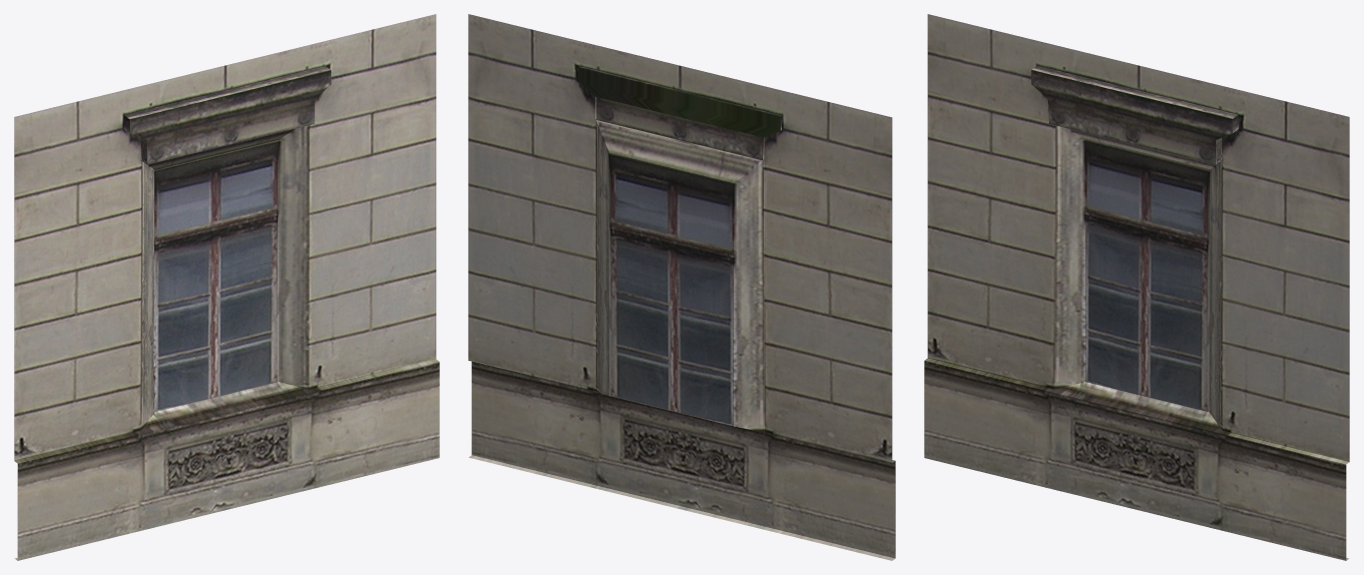
The model's file is fenster3.obj.
3 renders of one model, left to right at view 1: azimuth 30°, elevation 25°; view 2: azimuth 150°, elevation 25°; view 3: azimuth 330°, elevation 25°, orthographic.
Visible parts, largest first — view 1: polySurface8; view 2: polySurface8; view 3: polySurface8.
Boxes of the visible parts, x1,y1,x2,y2 form: polySurface8: [14, 14, 439, 560]; polySurface8: [468, 14, 895, 560]; polySurface8: [924, 14, 1349, 560].
Size of the model in its own units: 0.5 by 0.5 by 0.0297.
Materials: 1 (1 with a texture image).
